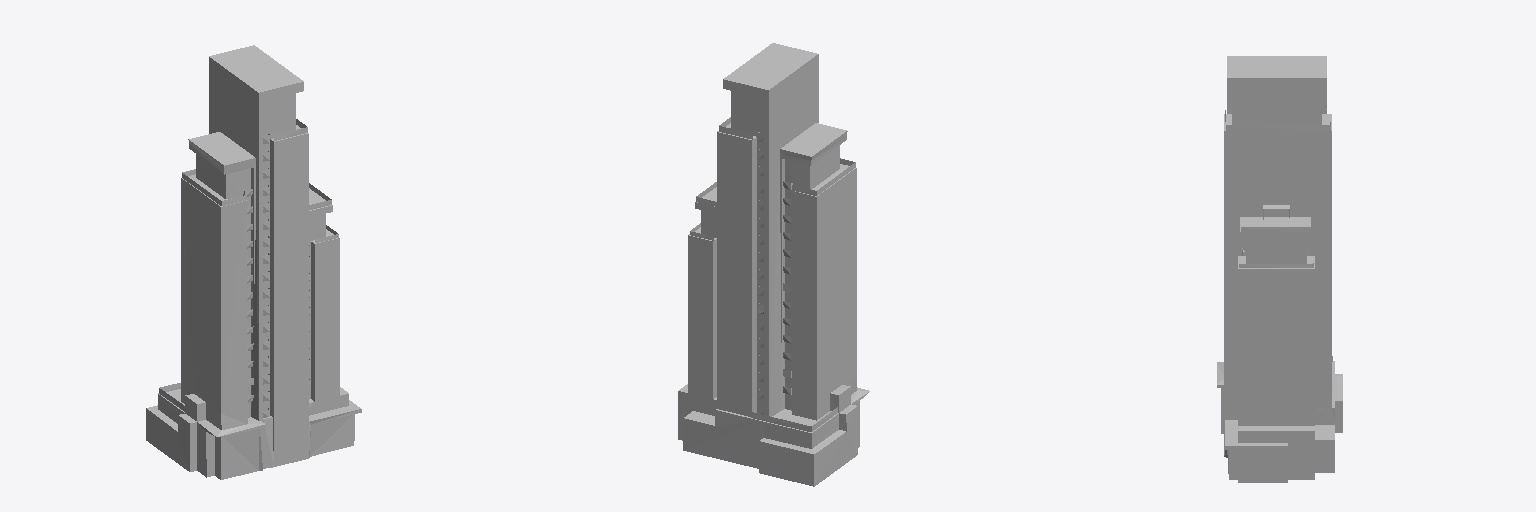
Rendered from TB178xTSXXXXXcsXXXXXXXXXXXX.obj.
3 views of the same model, side by side, from view 1: azimuth 30°, elevation 25°; view 2: azimuth 150°, elevation 25°; view 3: azimuth 270°, elevation 25° (orthographic).
Parts seen in each view (by area): view 1: BuildingH:BuildingH; view 2: BuildingH:BuildingH; view 3: BuildingH:BuildingH.
Boxes of the visible parts, x1=… form: BuildingH:BuildingH: x1=146, y1=45, x2=361, y2=479; BuildingH:BuildingH: x1=678, y1=43, x2=869, y2=486; BuildingH:BuildingH: x1=1217, y1=56, x2=1342, y2=482.
Bounding box in the file's own units: 16025 × 36855 × 11247.